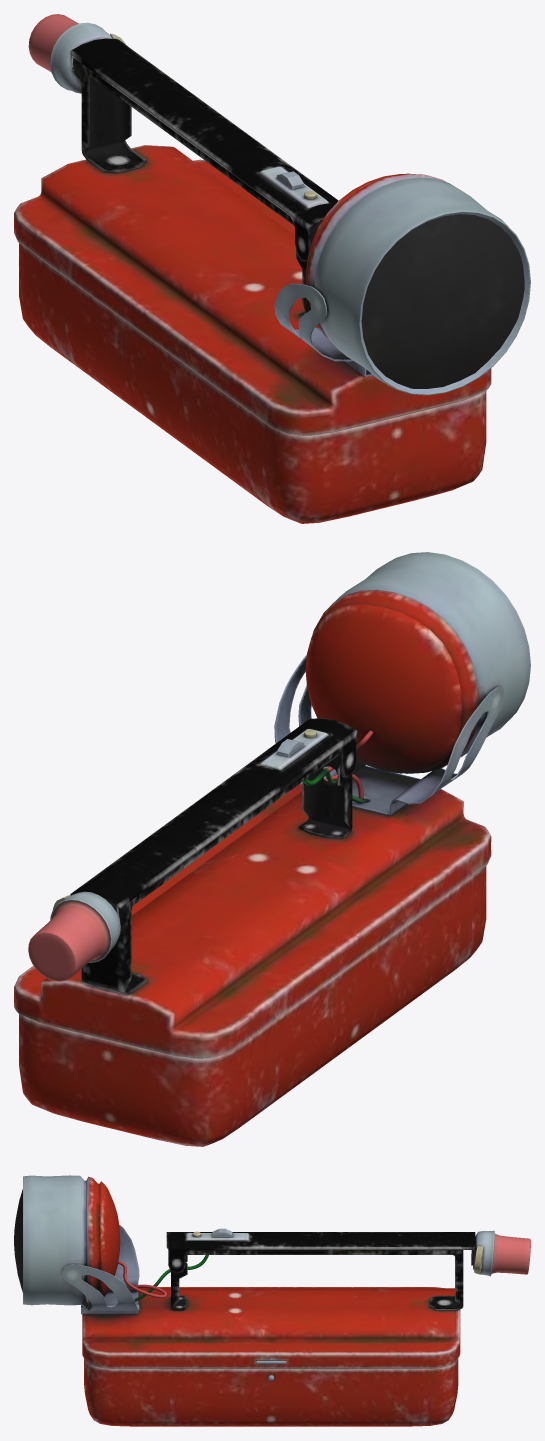
The model's file is vintage_flashlight.glb.
3 views of the same model, one above another, from view 1: azimuth 30°, elevation 25°; view 2: azimuth 150°, elevation 25°; view 3: azimuth 270°, elevation 25° (orthographic). The views are drawn at different scales.
Parts seen in each view (by area): view 1: vintage_flashlight; view 2: vintage_flashlight; view 3: vintage_flashlight.
Boxes of the visible parts, box(x1,y1,x2,y2) form: vintage_flashlight: box(14, 14, 530, 523); vintage_flashlight: box(14, 552, 530, 1146); vintage_flashlight: box(14, 1175, 530, 1426).
Bounding box in the file's own units: 0.0959 × 0.1443 × 0.3055.
2 materials, 2 textured.
